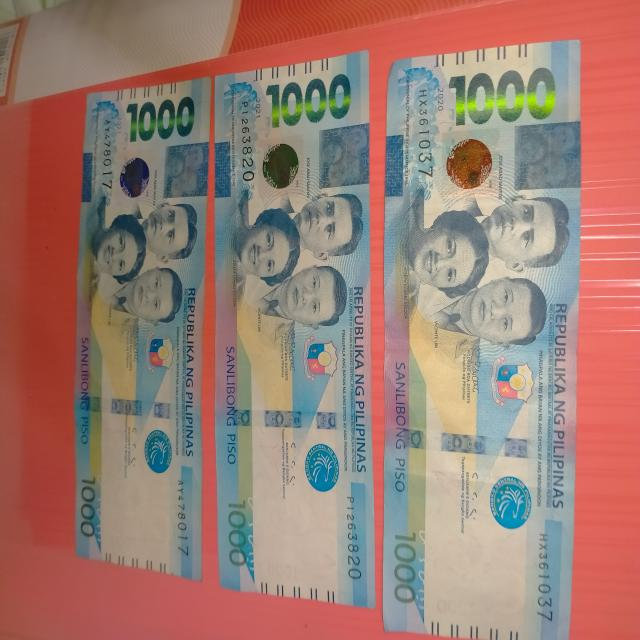concealed_value: (318, 125, 368, 187), (160, 144, 210, 197)
optically_variable_device: (440, 127, 499, 200), (113, 151, 157, 204)
see_through_mark: (414, 524, 434, 616), (244, 489, 262, 576)
value_watermark: (434, 596, 479, 622), (266, 562, 298, 583)
